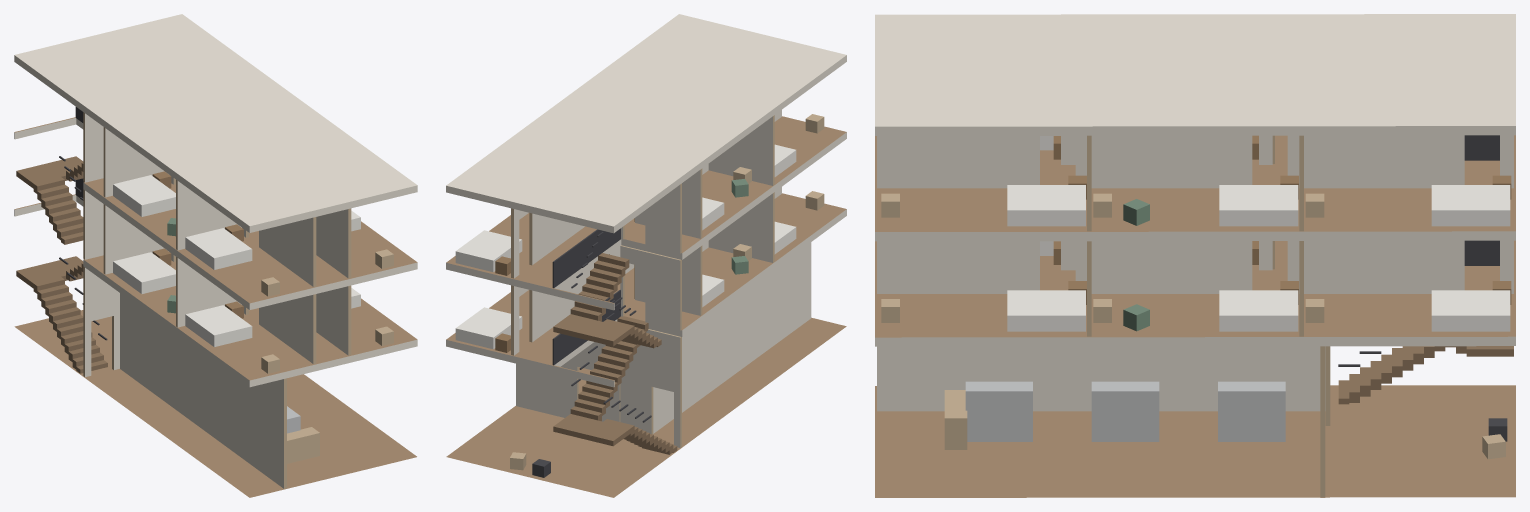
Rendered from interior.glb.
The picture shows the model from 3 angles, left to right: view 1: azimuth 30°, elevation 25°; view 2: azimuth 150°, elevation 25°; view 3: azimuth 270°, elevation 25°; orthographic projection. The views are drawn at different scales.
Parts seen in each view (by area): view 1: slabs, partitions, stair, coarse-s2, coarse-s1, coarse-s0; view 2: slabs, partitions, stair, coarse-s1, coarse-s2, coarse-s0; view 3: slabs, partitions, coarse-s0, coarse-s2, coarse-s1, stair.
Part boxes in pixels (<box>): slabs: <box>14,14,417,497</box>; partitions: <box>83,112,351,488</box>; stair: <box>16,107,107,373</box>; coarse-s2: <box>113,171,393,296</box>; coarse-s1: <box>113,248,393,373</box>; coarse-s0: <box>287,406,319,463</box>; slabs: <box>446,14,846,497</box>; partitions: <box>511,110,811,447</box>; stair: <box>552,228,677,454</box>; coarse-s1: <box>455,191,824,352</box>; coarse-s2: <box>455,114,824,275</box>; coarse-s0: <box>510,452,550,477</box>; slabs: <box>875,14,1515,497</box>; partitions: <box>877,135,1513,497</box>; coarse-s0: <box>944,381,1507,459</box>; coarse-s2: <box>881,135,1511,226</box>; coarse-s1: <box>881,241,1511,331</box>; stair: <box>1338,135,1513,404</box>.
Bounding box in the file's own units: 6.76 × 10.4 × 16.24.
